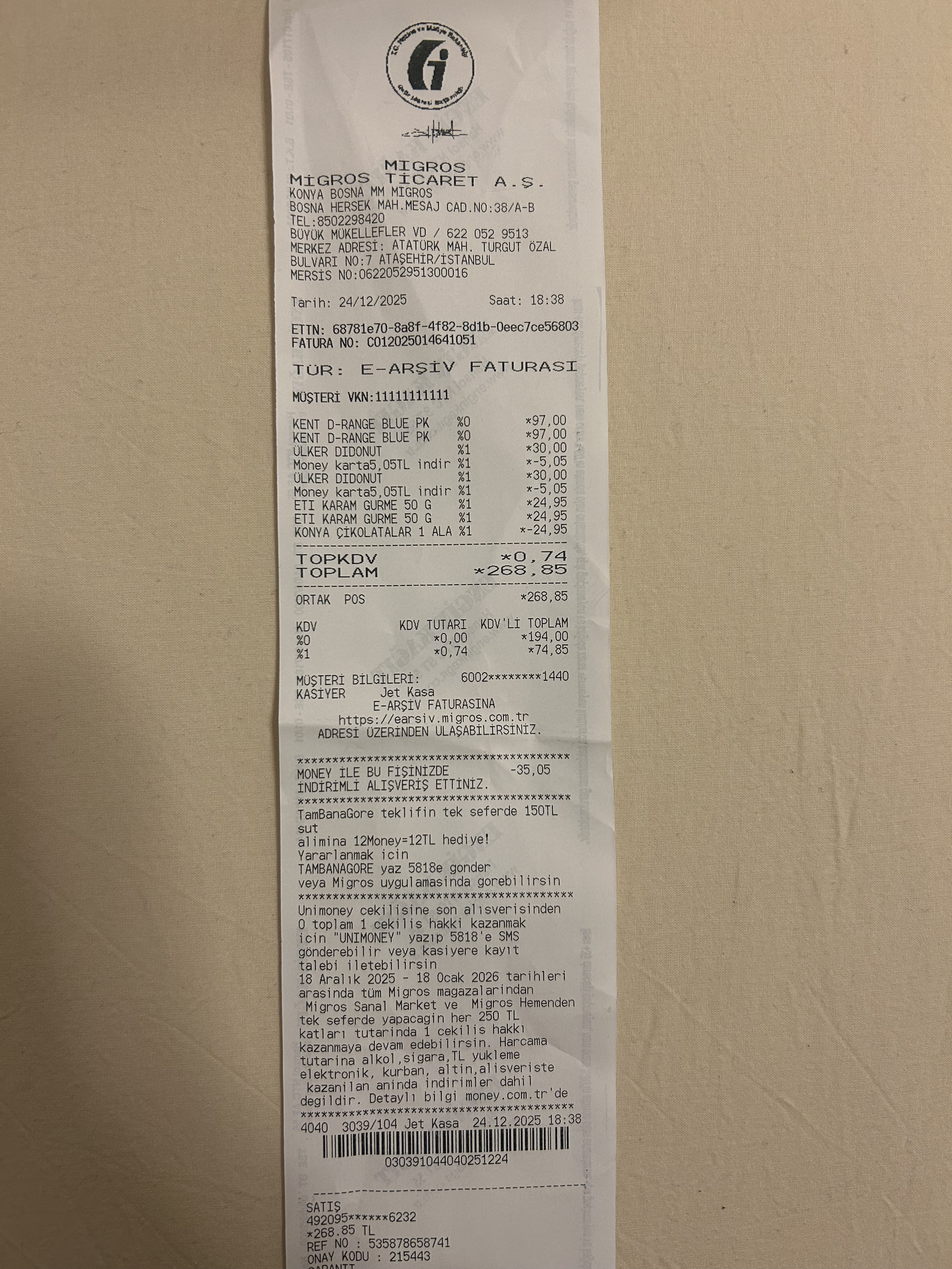date: (336, 291, 411, 314)
price: (483, 563, 571, 579)
workplace: (284, 157, 550, 217)
